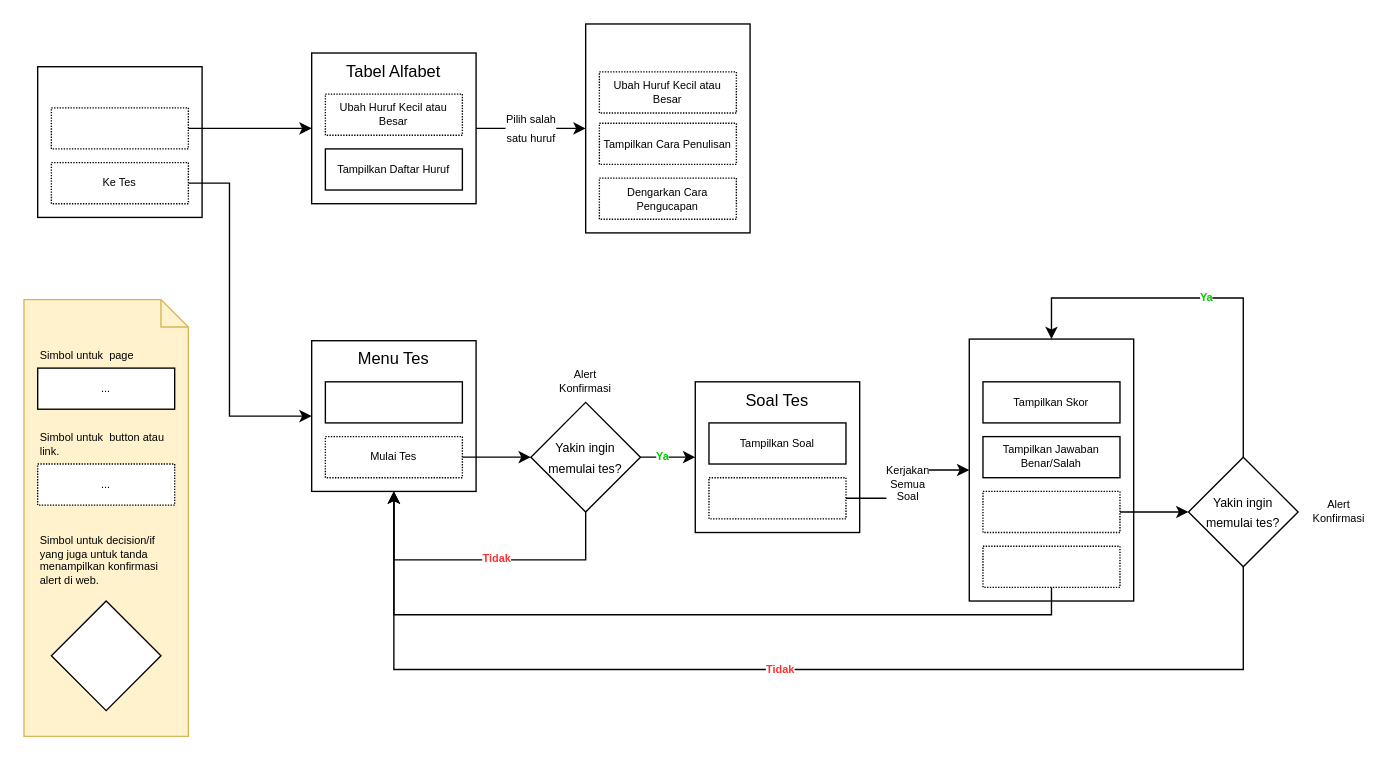
Image size: 1391x760. Some labels were removed from this diagram. Each missing label, with the box of its shape:
Detail Alfabet: (584, 23, 750, 233)
Hasil Tes: (968, 338, 1134, 601)
Home/Menu: (36, 65, 202, 217)
Jawab Dengan Menuliskan Langsung di App: (708, 476, 846, 519)
Ke Tabel Alfabet: (50, 106, 188, 149)
Kembali ke Menu Tes: (982, 545, 1120, 587)
Note: (23, 298, 188, 736)
Tampilkan Progress Tes: (324, 380, 462, 423)
Ulangi Tes: (982, 490, 1120, 533)
